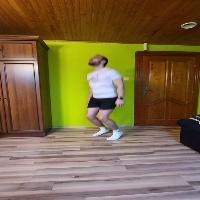high_jumps: (83, 49, 140, 143)
